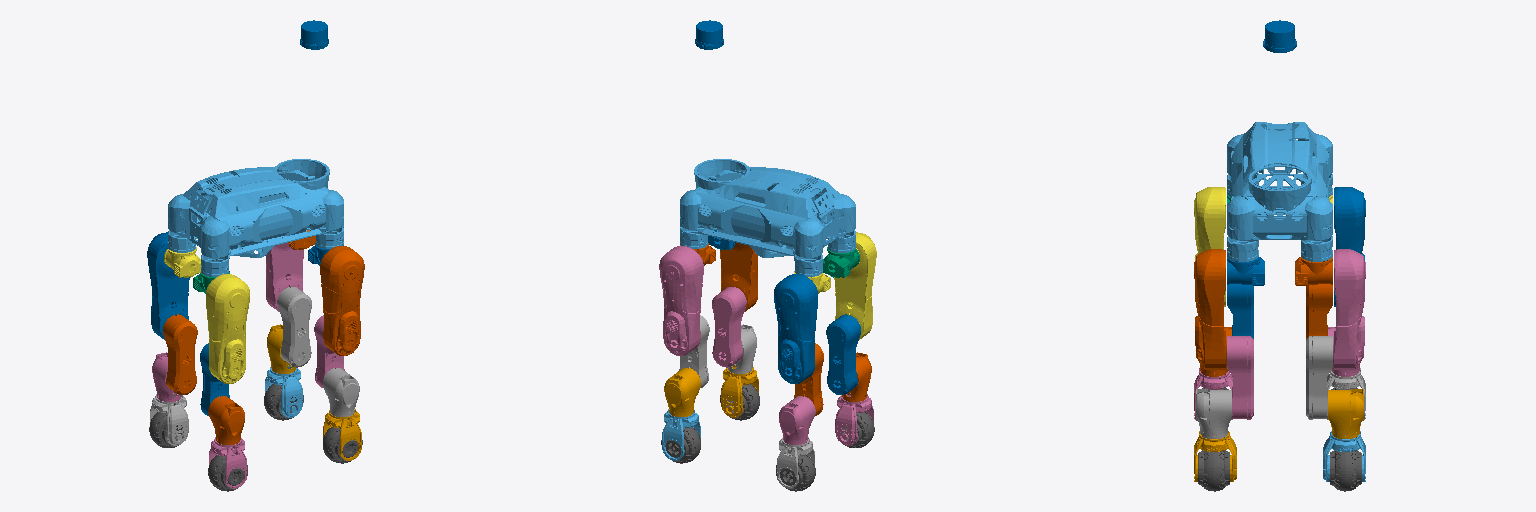
--- Facts derived from the render (not from the file) ---
The picture shows the robot from 3 angles, left to right: view 1: azimuth 30°, elevation 25°; view 2: azimuth 150°, elevation 25°; view 3: azimuth 270°, elevation 25°; orthographic projection.
Robot: centauro — 57 links, 56 joints (37 revolute, 5 continuous, 14 fixed); root link pelvis; default pose: joints at zero except 2 at the middle of their limits (j_arm1_2 = 1.73, j_arm2_2 = -1.72).
Links seen in each view (by area): view 1: pelvis, hip2_4, hip2_2, hip2_3, knee_3, knee_1, hip2_1, ankle1_2, ankle1_4, ankle2_3, ankle2_1, ankle2_2 (+11 smaller); view 2: pelvis, hip2_3, hip2_1, hip2_4, knee_4, knee_2, hip2_2, ankle1_1, ankle1_3, ankle2_4, ankle2_2, ankle2_1 (+11 smaller); view 3: pelvis, hip2_1, hip2_2, knee_1, knee_2, hip2_3, hip2_4, ankle1_1, ankle1_2, knee_3, knee_4, wheel_1 (+8 smaller).
Boxes of the visible links, x1,y1,x2,y2 form: pelvis: (168, 159, 343, 276); hip2_4: (206, 274, 249, 383); hip2_2: (320, 246, 364, 355); hip2_3: (147, 232, 189, 339); knee_3: (163, 314, 197, 394); knee_1: (277, 287, 311, 367); hip2_1: (266, 243, 303, 311); ankle1_2: (323, 368, 359, 416); ankle1_4: (208, 396, 244, 444); ankle2_3: (150, 393, 188, 445); ankle2_1: (265, 365, 302, 417); ankle2_2: (323, 409, 361, 460); pelvis: (680, 159, 855, 276); hip2_3: (774, 274, 817, 383); hip2_1: (659, 246, 703, 355); hip2_4: (834, 232, 876, 339); knee_4: (826, 314, 860, 394); knee_2: (712, 287, 746, 367); hip2_2: (720, 243, 757, 311); ankle1_1: (664, 368, 700, 416); ankle1_3: (779, 396, 815, 444); ankle2_4: (835, 393, 873, 445); ankle2_2: (721, 365, 758, 417); ankle2_1: (662, 409, 700, 460); pelvis: (1227, 122, 1332, 261); hip2_1: (1334, 249, 1365, 369); hip2_2: (1194, 249, 1225, 369); knee_1: (1306, 336, 1332, 419); knee_2: (1227, 336, 1253, 419); hip2_3: (1334, 187, 1365, 306); hip2_4: (1194, 187, 1225, 306); ankle1_1: (1328, 389, 1363, 438); ankle1_2: (1196, 389, 1231, 438); knee_3: (1306, 284, 1332, 338); knee_4: (1227, 284, 1253, 338); wheel_1: (1330, 450, 1361, 491).
Bounding box of the posed robot: 0.6554 × 0.5808 × 1.73 m (x, y, z).
Meshes: 19 distinct files referenced, 26 mesh visuals loaded (8 binary STL); not drawn: 19 (reference not matched to a file when rendering).

URDF robot description (centauro):
<?xml version="1.0" encoding="utf-8"?>
<!-- =================================================================================== -->
<!-- |    This document was autogenerated by xacro from [local-path]/code/robot_ws/src/iit-centauro-ros-pkg/centauro_urdf/urdf/centauro.urdf.xacro | -->
<!-- |    EDITING THIS FILE BY HAND IS NOT RECOMMENDED                                 | -->
<!-- =================================================================================== -->
<robot name="centauro">
  <!-- 
  ROS urdf definition of the CENTAURO humanoid robot by Istituto Italiano di Tecnologia
  
  Author: Enrico Mingo Hoffman
-->
  <!-- scaling facto for available peack torque link side, from 0 to 1 -->
  <material name="black">
    <color rgba="0.4 0.4 0.4 1"/>
  </material>
  <material name="dark">
    <color rgba="0.1 0.1 0.1 1"/>
  </material>
  <!-- TODO CHECK THIS VALUE -->
  <!-- ??? -->
  <!-- ??? -->
  <!-- Origin -->
  <!-- <xacro:property name="hip_yaw_lower" value="${[-2.827,-2.583, -2.583 ,-2.827]}"/>
<xacro:property name="hip_yaw_upper" value="${[ 2.583, 2.827,  2.827 , 2.583]}"/> -->
  <link name="base_link"/>
  <link name="pelvis">
    <inertial>
      <origin xyz="-0.0016320207 0.0026534004 0.079167428"/>
      <mass value="26.584529"/>
      <inertia ixx="0.39195477" ixy="0.024781259" ixz="0.017108607" iyy="1.0000709" iyz="0.0052627106" izz="1.0679989"/>
    </inertial>
    <visual>
      <origin rpy="0.0 0.0 0.0" xyz="0.0 0 0.0"/>
      <geometry>
        <mesh filename="package://centauro_urdf/meshes/v2/pelvis.stl" scale="0.001 0.001 0.001"/>
      </geometry>
    </visual>
    <collision>
      <origin rpy="0.0 0.0 0.0" xyz="0.0 0 0.0"/>
      <geometry>
        <mesh filename="package://centauro_urdf/meshes/simple/pelvis.stl" scale="0.001 0.001 0.001"/>
      </geometry>
    </collision>
  </link>
  <link name="imu_link"/>
  <joint name="imu_joint" type="fixed">
    <parent link="pelvis"/>
    <origin rpy="0.0 0.0 0.0" xyz="0.248316 0.0 0.015"/>
    <child link="imu_link"/>
  </joint>
  <joint name="base_joint" type="fixed">
    <parent link="pelvis"/>
    <child link="base_link"/>
    <origin rpy="0 0 0" xyz="0 0 0"/>
  </joint>
  <!-- torso links -->
  <link name="torso_2">
    <inertial>
      <origin xyz="-0.019497794 0.0045317835 0.13768283"/>
      <mass value="12.553731"/>
      <inertia ixx="0.063643392" ixy="8.939e-05" ixz="-0.00086873" iyy="0.02680235" iyz="-4.657e-05" izz="0.04743015"/>
    </inertial>
    <visual>
      <origin rpy="0.0 0.0 0.0" xyz="0.0 0 0.0"/>
      <geometry>
        <mesh filename="package://centauro_urdf/meshes/link1.stl" scale="0.001 0.001 0.001"/>
      </geometry>
    </visual>
    <collision>
      <origin rpy="0.0 0.0 0.0" xyz="0.0 0 0.0"/>
      <geometry>
        <mesh filename="package://centauro_urdf/meshes/simple/link1.stl" scale="0.001 0.001 0.001"/>
      </geometry>
    </collision>
  </link>
  <!-- /torso links -->
  <!-- torso joints -->
  <joint name="torso_yaw" type="revolute">
    <parent link="pelvis"/>
    <origin xyz="0.2 0.0 0.256"/>
    <child link="torso_2"/>
    <axis xyz="0 0 1"/>
    <limit effort="147" lower="-2.618" upper="2.618" velocity="5.7"/>
    <!-- TODO -->
  </joint>
  <!-- /torso joints -->
  <!-- /macro arms -->
  <!-- LINKS -->
  <!-- shoulder yaw-roll-->
  <link name="arm1_1">
    <inertial>
      <origin xyz="-0.0074457212 0.03410796 0.00010978102"/>
      <mass value="1.9628675"/>
      <inertia ixx="0.0053547717" ixy="0.00036428926" ixz="1.5089568e-05" iyy="0.0033923328" iyz="5.5692312e-05" izz="0.0068921413"/>
    </inertial>
    <visual>
      <origin rpy="0.0 0.0 0.0" xyz="0.0 0.0 0.0"/>
      <geometry>
        <mesh filename="package://centauro_urdf/meshes/ShoulderPitch.STL" scale="0.001 -0.001 0.001"/>
      </geometry>
      <material name="dark_grey"/>
    </visual>
    <collision>
      <origin rpy="0.0 0.0 0.0" xyz="0.0 0.0 0.0"/>
      <geometry>
        <mesh filename="package://centauro_urdf/meshes/simple/ShoulderPitch.STL" scale="0.001 -0.001 0.001"/>
      </geometry>
    </collision>
  </link>
  <!-- shoulder yaw-roll-->
  <!-- shoulder roll-pitch-->
  <link name="arm1_2">
    <inertial>
      <origin xyz="0.058142302 5.7450803e-05 -0.077477683"/>
      <mass value="1.8595811"/>
      <inertia ixx="0.013776643" ixy="3.7788675e-05" ixz="0.0037690171" iyy="0.015677464" iyz="-9.4893549e-06" izz="0.0046317657"/>
    </inertial>
    <visual>
      <origin rpy="0.0 0.0 0.0" xyz="0.0 0.0 0.0"/>
      <geometry>
        <mesh filename="package://centauro_urdf/meshes/ShoulderRoll.STL" scale="0.001 -0.001 0.001"/>
      </geometry>
    </visual>
    <collision>
      <origin rpy="0.0 0.0 0.0" xyz="0.0 0.0 0.0"/>
      <geometry>
        <mesh filename="package://centauro_urdf/meshes/simple/ShoulderRoll.STL" scale="0.001 -0.001 0.001"/>
      </geometry>
    </collision>
  </link>
  <!-- shoulder roll-pitch-->
  <!-- shoulder-elbow -->
  <link name="arm1_3">
    <inertial>
      <origin xyz="0.014625194 0.0008172672 -0.028333545"/>
      <mass value="1.6678109"/>
      <inertia ixx="0.0064480435" ixy="-0.00015639093" ixz="0.0012205359" iyy="0.0073372077" iyz="8.9941532e-05" izz="0.0036738448"/>
    </inertial>
    <visual>
      <origin rpy="0.0 0.0 0.0" xyz="0.0 0.0 0.0"/>
      <geometry>
        <mesh filename="package://centauro_urdf/meshes/ShoulderYaw.STL" scale="0.001 -0.001 0.001"/>
      </geometry>
      <material name="dark_grey"/>
    </visual>
    <collision>
      <origin rpy="0.0 0.0 0.0" xyz="0.0 0.0 0.0"/>
      <geometry>
        <mesh filename="package://centauro_urdf/meshes/simple/ShoulderYaw.STL" scale="0.001 -0.001 0.001"/>
      </geometry>
    </collision>
  </link>
  <!-- /shoulder-elbow -->
  <!-- elbow yaw-pitch -->
  <link name="arm1_4">
    <inertial>
      <origin xyz="-0.0076833067 -0.040302205 -0.043492779"/>
      <mass value="1.3157289"/>
      <inertia ixx="0.004330394" ixy="-0.00011737391" ixz="-0.00041923199" iyy="0.0038539919" iyz="-0.00079573038" izz="0.0017594689"/>
    </inertial>
    <visual>
      <origin rpy="0.0 0.0 0.0" xyz="0.0 0.0 0.0"/>
      <geometry>
        <mesh filename="package://centauro_urdf/meshes/Elbow.STL" scale="0.001 -0.001 0.001"/>
      </geometry>
    </visual>
    <collision>
      <origin rpy="0.0 0.0 0.0" xyz="0.0 0.0 0.0"/>
      <geometry>
        <mesh filename="package://centauro_urdf/meshes/simple/Elbow.STL" scale="0.001 -0.001 0.001"/>
      </geometry>
    </collision>
  </link>
  <!-- /elbow yaw-pitch -->
  <!-- elbow-wrist -->
  <link name="arm1_5">
    <inertial>
      <origin xyz="-0.00011079615 0.011590836 -0.07816026"/>
      <mass value="1.4908547"/>
      <inertia ixx="0.0085692128" ixy="1.7856252e-05" ixz="1.9379365e-05" iyy="0.0077454159" iyz="-0.00032860094" izz="0.0027441921"/>
    </inertial>
    <visual>
      <origin rpy="0.0 0.0 0.0" xyz="0.0 0.0 0.0"/>
      <geometry>
        <mesh filename="package://centauro_urdf/meshes/Forearm.STL" scale="0.001 -0.001 0.001"/>
      </geometry>
      <material name="dark_grey"/>
    </visual>
    <collision>
      <origin rpy="0.0 0.0 0.0" xyz="0.0 0.0 0.0"/>
      <geometry>
        <mesh filename="package://centauro_urdf/meshes/simple/Forearm.STL" scale="0.001 -0.001 0.001"/>
      </geometry>
    </collision>
  </link>
  <!-- /elbow-wrist -->
  <!-- wrist yaw-pitch -->
  <link name="arm1_6">
    <inertial>
      <origin xyz="-4.6502396e-06 -0.038014094 -0.069926878"/>
      <mass value="1.1263612"/>
      <inertia ixx="0.0051871784" ixy="2.724437e-05" ixz="2.2833496e-06" iyy="0.0048037789" iyz="-0.00072165653" izz="0.0012771388"/>
    </inertial>
    <visual>
      <origin rpy="0.0 0.0 0.0" xyz="0.0 0.0 0.0"/>
      <geometry>
        <mesh filename="package://centauro_urdf/meshes/ForearmPitch.STL" scale="0.001 -0.001 0.001"/>
      </geometry>
    </visual>
    <collision>
      <origin rpy="0.0 0.0 0.0" xyz="0.0 0.0 0.0"/>
      <geometry>
        <mesh filename="package://centauro_urdf/meshes/simple/ForearmPitch.STL" scale="0.001 -0.001 0.001"/>
      </geometry>
    </collision>
  </link>
  <!-- /wrist yaw-pitch -->
  <link name="arm1_7">
    <inertial>
      <origin xyz="0.0 0.0 0.03127057"/>
      <mass value="0.27966428"/>
      <inertia ixx="0.00014415192" ixy="9.8651826e-08" ixz="0" iyy="0.0001441701" iyz="0" izz="6.0500616e-05"/>
    </inertial>
    <visual>
      <origin rpy="0.0 0.0 0.0" xyz="0.0 0.0 0.0"/>
      <geometry>
        <mesh filename="package://centauro_urdf/meshes/ForearmYaw.STL" scale="0.001 -0.001 0.001"/>
      </geometry>
      <material name="dark_grey"/>
    </visual>
    <collision>
      <origin rpy="0.0 0.0 0.0" xyz="0.0 0.0 0.0"/>
      <geometry>
        <mesh filename="package://centauro_urdf/meshes/simple/ForearmYaw.STL" scale="0.001 -0.001 0.001"/>
      </geometry>
    </collision>
  </link>
  <!-- /LINKS -->
  <!-- JOINTS -->
  <!-- shoulder yaw -->
  <joint name="j_arm1_1" type="revolute">
    <parent link="torso_2"/>
    <child link="arm1_1"/>
    <origin rpy="0.174533 0.0 -0.5235988" xyz="0.0457475 0.169137 0.116626"/>
    <axis xyz="0 1 0"/>
    <limit effort="147.0" lower="-3.312" upper="1.615" velocity="3.86"/>
  </joint>
  <!-- /shoulder yaw -->
  <!-- shoulder roll -->
  <joint name="j_arm1_2" type="revolute">
    <parent link="arm1_1"/>
    <child link="arm1_2"/>
    <origin rpy="-0.1745327 0.0 0.0" xyz="-0.09015 0.062 0.0"/>
    <axis xyz="1 0 0"/>
    <limit effort="147.0" lower="0.02" upper="3.431" velocity="3.86"/>
  </joint>
  <!-- /shoulder roll -->
  <!-- shoulder pitch-->
  <joint name="j_arm1_3" type="revolute">
    <parent link="arm1_2"/>
    <child link="arm1_3"/>
    <origin xyz="0.09015 0.0 -0.21815"/>
    <axis xyz="0 0 1"/>
    <limit effort="147.0" lower="-2.552" upper="2.566" velocity="6.06"/>
  </joint>
  <!-- /shoulder pitch -->
  <!-- elbow yaw -->
  <joint name="j_arm1_4" type="revolute">
    <parent link="arm1_3"/>
    <child link="arm1_4"/>
    <origin xyz="0.045 0.05515 -0.074"/>
    <axis xyz="0 1 0"/>
    <limit effort="147.0" lower="-2.465" upper="0.28" velocity="6.06"/>
  </joint>
  <!-- /elbow yaw -->
  <!-- elbow pitch-->
  <joint name="j_arm1_5" type="revolute">
    <parent link="arm1_4"/>
    <child link="arm1_5"/>
    <origin xyz="-0.015 -0.05515 -0.095"/>
    <axis xyz="0 0 1"/>
    <limit effort="55.0" lower="-2.569" upper="2.562" velocity="11.72"/>
  </joint>
  <!-- /elbow pitch-->
  <!-- wrist yaw-->
  <joint name="j_arm1_6" type="revolute">
    <parent link="arm1_5"/>
    <child link="arm1_6"/>
    <origin xyz="0.0 0.049 -0.156"/>
    <axis xyz="0 1 0"/>
    <limit effort="55.0" lower="-1.529" upper="1.509" velocity="11.72"/>
  </joint>
  <!-- /wrist yaw-->
  <!-- wrist pitch-->
  <joint name="j_arm1_7" type="revolute">
    <parent link="arm1_6"/>
    <child link="arm1_7"/>
    <origin xyz="0.0 -0.049 -0.174"/>
    <axis xyz="0 0 1"/>
    <limit effort="28.32" lower="-2.565" upper="2.569" velocity="20.35"/>
  </joint>
  <!-- wrist pitch-->
  <!-- force-troque sensor -->
  <!-- end-effector -->
  <!-- wrist pitch-->
  <joint name="j_ft_1" type="fixed">
    <parent link="arm1_7"/>
    <child link="ft_arm1"/>
    <origin rpy="0.0 0.0 0.0" xyz="0.0 0.0 -0.0"/>
    <axis xyz="0 0 1"/>
    <limit effort="0" lower="0.0" upper="0.0" velocity="0"/>
  </joint>
  <!-- wrist pitch-->
  <link name="ft_arm1">
    <inertial>
      <origin xyz="8.2161929e-05 0.0026334189 -0.016465877"/>
      <mass value="0.37827821"/>
      <inertia ixx="0.00023321716" ixy="2.3681435e-06" ixz="-1.8039102e-06" iyy="0.00020626291" iyz="3.158829e-05" izz="0.00027399881"/>
    </inertial>
    <!--visual>
         <origin xyz="0.0 0.0 0.0"  rpy="${PI} 0.0 0.0"/>
   <geometry>
      <mesh filename="package://centauro_urdf/meshes/Wrist.STL" scale="0.001 ${-rot*0.001} 0.001" />
   </geometry>
      </visual-->
    <!--collision>
         <origin xyz="0.0 0.0 0.0"  rpy="${PI} 0.0 0.0"/>
   <geometry>
      <mesh filename="package://centauro_urdf/meshes/simple/Wrist.STL" scale="0.001 ${-rot*0.001} 0.001" />
   </geometry>
      </collision-->
  </link>
  <!-- LINKS -->
  <!-- shoulder yaw-roll-->
  <link name="arm2_1">
    <inertial>
      <origin xyz="-0.0074457212 -0.03410796 0.00010978102"/>
      <mass value="1.9628675"/>
      <inertia ixx="0.0053547717" ixy="-0.00036428926" ixz="1.5089568e-05" iyy="0.0033923328" iyz="-5.5692312e-05" izz="0.0068921413"/>
    </inertial>
    <visual>
      <origin rpy="0.0 0.0 0.0" xyz="0.0 0.0 0.0"/>
      <geometry>
        <mesh filename="package://centauro_urdf/meshes/ShoulderPitch.STL" scale="0.001 0.001 0.001"/>
      </geometry>
      <material name="dark_grey"/>
    </visual>
    <collision>
      <origin rpy="0.0 0.0 0.0" xyz="0.0 0.0 0.0"/>
      <geometry>
        <mesh filename="package://centauro_urdf/meshes/simple/ShoulderPitch.STL" scale="0.001 0.001 0.001"/>
      </geometry>
    </collision>
  </link>
  <!-- shoulder yaw-roll-->
  <!-- shoulder roll-pitch-->
  <link name="arm2_2">
    <inertial>
      <origin xyz="0.058142302 -5.7450803e-05 -0.077477683"/>
      <mass value="1.8595811"/>
      <inertia ixx="0.013776643" ixy="-3.7788675e-05" ixz="0.0037690171" iyy="0.015677464" iyz="9.4893549e-06" izz="0.0046317657"/>
    </inertial>
    <visual>
      <origin rpy="0.0 0.0 0.0" xyz="0.0 0.0 0.0"/>
      <geometry>
        <mesh filename="package://centauro_urdf/meshes/ShoulderRoll.STL" scale="0.001 0.001 0.001"/>
      </geometry>
    </visual>
    <collision>
      <origin rpy="0.0 0.0 0.0" xyz="0.0 0.0 0.0"/>
      <geometry>
        <mesh filename="package://centauro_urdf/meshes/simple/ShoulderRoll.STL" scale="0.001 0.001 0.001"/>
      </geometry>
    </collision>
  </link>
  <!-- shoulder roll-pitch-->
  <!-- shoulder-elbow -->
  <link name="arm2_3">
    <inertial>
      <origin xyz="0.014625194 -0.0008172672 -0.028333545"/>
      <mass value="1.6678109"/>
      <inertia ixx="0.0064480435" ixy="0.00015639093" ixz="0.0012205359" iyy="0.0073372077" iyz="-8.9941532e-05" izz="0.0036738448"/>
    </inertial>
    <visual>
      <origin rpy="0.0 0.0 0.0" xyz="0.0 0.0 0.0"/>
      <geometry>
        <mesh filename="package://centauro_urdf/meshes/ShoulderYaw.STL" scale="0.001 0.001 0.001"/>
      </geometry>
      <material name="dark_grey"/>
    </visual>
    <collision>
      <origin rpy="0.0 0.0 0.0" xyz="0.0 0.0 0.0"/>
      <geometry>
        <mesh filename="package://centauro_urdf/meshes/simple/ShoulderYaw.STL" scale="0.001 0.001 0.001"/>
      </geometry>
    </collision>
  </link>
  <!-- /shoulder-elbow -->
  <!-- elbow yaw-pitch -->
  <link name="arm2_4">
    <inertial>
      <origin xyz="-0.0076833067 0.040302205 -0.043492779"/>
      <mass value="1.3157289"/>
      <inertia ixx="0.004330394" ixy="0.00011737391" ixz="-0.00041923199" iyy="0.0038539919" iyz="0.00079573038" izz="0.0017594689"/>
    </inertial>
    <visual>
      <origin rpy="0.0 0.0 0.0" xyz="0.0 0.0 0.0"/>
      <geometry>
        <mesh filename="package://centauro_urdf/meshes/Elbow.STL" scale="0.001 0.001 0.001"/>
      </geometry>
    </visual>
    <collision>
      <origin rpy="0.0 0.0 0.0" xyz="0.0 0.0 0.0"/>
      <geometry>
        <mesh filename="package://centauro_urdf/meshes/simple/Elbow.STL" scale="0.001 0.001 0.001"/>
      </geometry>
    </collision>
  </link>
  <!-- /elbow yaw-pitch -->
  <!-- elbow-wrist -->
  <link name="arm2_5">
    <inertial>
      <origin xyz="-0.00011079615 -0.011590836 -0.07816026"/>
      <mass value="1.4908547"/>
      <inertia ixx="0.0085692128" ixy="-1.7856252e-05" ixz="1.9379365e-05" iyy="0.0077454159" iyz="0.00032860094" izz="0.0027441921"/>
    </inertial>
    <visual>
      <origin rpy="0.0 0.0 0.0" xyz="0.0 0.0 0.0"/>
      <geometry>
        <mesh filename="package://centauro_urdf/meshes/Forearm.STL" scale="0.001 0.001 0.001"/>
      </geometry>
      <material name="dark_grey"/>
    </visual>
    <collision>
      <origin rpy="0.0 0.0 0.0" xyz="0.0 0.0 0.0"/>
      <geometry>
        <mesh filename="package://centauro_urdf/meshes/simple/Forearm.STL" scale="0.001 0.001 0.001"/>
      </geometry>
    </collision>
  </link>
  <!-- /elbow-wrist -->
  <!-- wrist yaw-pitch -->
  <link name="arm2_6">
    <inertial>
      <origin xyz="-4.6502396e-06 0.038014094 -0.069926878"/>
      <mass value="1.1263612"/>
      <inertia ixx="0.0051871784" ixy="-2.724437e-05" ixz="2.2833496e-06" iyy="0.0048037789" iyz="0.00072165653" izz="0.0012771388"/>
    </inertial>
    <visual>
      <origin rpy="0.0 0.0 0.0" xyz="0.0 0.0 0.0"/>
      <geometry>
        <mesh filename="package://centauro_urdf/meshes/ForearmPitch.STL" scale="0.001 0.001 0.001"/>
      </geometry>
    </visual>
    <collision>
      <origin rpy="0.0 0.0 0.0" xyz="0.0 0.0 0.0"/>
      <geometry>
        <mesh filename="package://centauro_urdf/meshes/simple/ForearmPitch.STL" scale="0.001 0.001 0.001"/>
      </geometry>
    </collision>
  </link>
  <!-- /wrist yaw-pitch -->
  <link name="arm2_7">
    <inertial>
      <origin xyz="0.0 -0.0 0.03127057"/>
      <mass value="0.27966428"/>
      <inertia ixx="0.00014415192" ixy="-9.8651826e-08" ixz="0" iyy="0.0001441701" iyz="0" izz="6.0500616e-05"/>
    </inertial>
    <visual>
      <origin rpy="0.0 0.0 0.0" xyz="0.0 0.0 0.0"/>
      <geometry>
        <mesh filename="package://centauro_urdf/meshes/ForearmYaw.STL" scale="0.001 0.001 0.001"/>
      </geometry>
      <material name="dark_grey"/>
    </visual>
    <collision>
      <origin rpy="0.0 0.0 0.0" xyz="0.0 0.0 0.0"/>
      <geometry>
        <mesh filename="package://centauro_urdf/meshes/simple/ForearmYaw.STL" scale="0.001 0.001 0.001"/>
      </geometry>
    </collision>
  </link>
  <!-- /LINKS -->
  <!-- JOINTS -->
  <!-- shoulder yaw -->
  <joint name="j_arm2_1" type="revolute">
    <parent link="torso_2"/>
    <child link="arm2_1"/>
    <origin rpy="-0.174533 0.0 0.5235988" xyz="0.0457475 -0.169137 0.116626"/>
    <axis xyz="0 1 0"/>
    <limit effort="147.0" lower="-3.3458" upper="1.6012" velocity="3.86"/>
  </joint>
  <!-- /shoulder yaw -->
  <!-- shoulder roll -->
  <joint name="j_arm2_2" type="revolute">
    <parent link="arm2_1"/>
    <child link="arm2_2"/>
    <origin rpy="0.1745327 0.0 0.0" xyz="-0.09015 -0.062 0.0"/>
    <axis xyz="1 0 0"/>
    <limit effort="147.0" lower="-3.4258" upper="-0.0138" velocity="3.86"/>
  </joint>
  <!-- /shoulder roll -->
  <!-- shoulder pitch-->
  <joint name="j_arm2_3" type="revolute">
    <parent link="arm2_2"/>
    <child link="arm2_3"/>
    <origin xyz="0.09015 0.0 -0.21815"/>
    <axis xyz="0 0 1"/>
    <limit effort="147.0" lower="-2.5614" upper="2.5606" velocity="6.06"/>
  </joint>
  <!-- /shoulder pitch -->
  <!-- elbow yaw -->
  <joint name="j_arm2_4" type="revolute">
    <parent link="arm2_3"/>
    <child link="arm2_4"/>
    <origin xyz="0.045 -0.05515 -0.074"/>
    <axis xyz="0 1 0"/>
    <limit effort="147.0" lower="-2.4794" upper="0.2886" velocity="6.06"/>
  </joint>
  <!-- /elbow yaw -->
  <!-- elbow pitch-->
  <joint name="j_arm2_5" type="revolute">
    <parent link="arm2_4"/>
    <child link="arm2_5"/>
    <origin xyz="-0.015 0.05515 -0.095"/>
    <axis xyz="0 0 1"/>
    <limit effort="55.0" lower="-2.5394" upper="2.5546" velocity="11.72"/>
  </joint>
  <!-- /elbow pitch-->
  <!-- wrist yaw-->
  <joint name="j_arm2_6" type="revolute">
    <parent link="arm2_5"/>
    <child link="arm2_6"/>
    <origin xyz="0.0 -0.049 -0.156"/>
    <axis xyz="0 1 0"/>
    <limit effort="55.0" lower="-1.5154" upper="1.5156" velocity="11.72"/>
  </joint>
  <!-- /wrist yaw-->
  <!-- wrist pitch-->
  <joint name="j_arm2_7" type="revolute">
    <parent link="arm2_6"/>
    <child link="arm2_7"/>
    <origin xyz="0.0 0.049 -0.174"/>
    <axis xyz="0 0 1"/>
    <limit effort="28.32" lower="-2.5554" upper="2.5686" velocity="20.35"/>
  </joint>
  <!-- wrist pitch-->
  <!-- force-troque sensor -->
  <!-- end-effector -->
  <!-- wrist pitch-->
  <joint name="j_ft_2" type="fixed">
    <parent link="arm2_7"/>
    <child link="ft_arm2"/>
    <origin rpy="0.0 0.0 0.0" xyz="0.0 0.0 -0.0"/>
    <axis xyz="0 0 1"/>
    <limit effort="0" lower="0.0" upper="0.0" velocity="0"/>
  </joint>
  <!-- wrist pitch-->
  <link name="ft_arm2">
    <inertial>
      <origin xyz="8.2161929e-05 -0.0026334189 -0.016465877"/>
      <mass value="0.37827821"/>
      <inertia ixx="0.00023321716" ixy="-2.3681435e-06" ixz="-1.8039102e-06" iyy="0.00020626291" iyz="-3.158829e-05" izz="0.00027399881"/>
    </inertial>
    <!--visual>
         <origin xyz="0.0 0.0 0.0"  rpy="${PI} 0.0 0.0"/>
   <geometry>
      <mesh filename="package://centauro_urdf/meshes/Wrist.STL" scale="0.001 ${-rot*0.001} 0.001" />
   </geometry>
      </visual-->
    <!--collision>
         <origin xyz="0.0 0.0 0.0"  rpy="${PI} 0.0 0.0"/>
   <geometry>
      <mesh filename="package://centauro_urdf/meshes/simple/Wrist.STL" scale="0.001 ${-rot*0.001} 0.001" />
   </geometry>
      </collision-->
  </link>
  <link name="ball1">
    <inertial>
      <origin rpy="0 0 0" xyz="-1.0072498e-05 3.7590658e-05 0.019772332"/>
      <mass value="1.27"/>
      <inertia ixx="0.0023061092" ixy="2.9181758e-07" ixz="-2.1246684e-07" iyy="0.0023053155" iyz="7.9290978e-07" izz="0.0030675616"/>
    </inertial>
    <visual>
      <origin rpy="0.0 0.0 0.0" xyz="0.0 0.0 0.0"/>
      <geometry name="ball1_visual">
        <mesh filename="package://centauro_urdf/meshes/BallHand.stl" scale="0.001 0.001 0.001"/>
      </geometry>
      <material name="grey"/>
    </visual>
    <collision>
      <origin rpy="0.0 0.0 0.0" xyz="0.0 0.0 0.0"/>
      <geometry name="ball1_collision">
        <mesh filename="package://centauro_urdf/meshes/simple/BallHand.stl" scale="0.001 0.001 0.001"/>
      </geometry>
    </collision>
  </link>
  <link name="ball1_tip"/>
  <joint name="j_arm1_8" type="fixed">
    <parent link="arm1_7"/>
    <child link="ball1"/>
    <origin rpy="0. 0. 0." xyz="0. 0. 0."/>
  </joint>
  <joint name="j_ball1_tip" type="fixed">
    <parent link="ball1"/>
    <child link="ball1_tip"/>
    <origin rpy="0 0 0" xyz="0 0 -0.07"/>
  </joint>
  <!-- add armX_8 link for legacy reasons (same as ballX) -->
  <joint name="j_ball1_fixed" type="fixed">
    <parent link="ball1"/>
    <child link="arm1_8"/>
  </joint>
  <link name="arm1_8">
    <inertial>
      <mass value="0"/>
      <inertia ixx="0" ixy="0" ixz="0" iyy="0" iyz="0" izz="0"/>
    </inertial>
  </link>
  <link name="ball2">
    <inertial>
      <origin rpy="0 0 0" xyz="-1.0072498e-05 3.7590658e-05 0.019772332"/>
      <mass value="1.27"/>
      <inertia ixx="0.0023061092" ixy="2.9181758e-07" ixz="-2.1246684e-07" iyy="0.0023053155" iyz="7.9290978e-07" izz="0.0030675616"/>
    </inertial>
    <visual>
      <origin rpy="0.0 0.0 0.0" xyz="0.0 0.0 0.0"/>
      <geometry name="ball2_visual">
        <mesh filename="package://centauro_urdf/meshes/BallHand.stl" scale="0.001 0.001 0.001"/>
      </geometry>
      <material name="grey"/>
    </visual>
    <collision>
      <origin rpy="0.0 0.0 0.0" xyz="0.0 0.0 0.0"/>
      <geometry name="ball2_collision">
        <mesh filename="package://centauro_urdf/meshes/simple/BallHand.stl" scale="0.001 0.001 0.001"/>
      </geometry>
    </collision>
  </link>
  <link name="ball2_tip"/>
  <joint name="j_arm2_8" type="fixed">
    <parent link="arm2_7"/>
    <child link="ball2"/>
    <origin rpy="0. 0. 0." xyz="0. 0. 0."/>
  </joint>
  <joint name="j_ball2_tip" type="fixed">
    <parent link="ball2"/>
    <child link="ball2_tip"/>
    <origin rpy="0 0 0" xyz="0 0 -0.07"/>
  </joint>
  <!-- add armX_8 link for legacy reasons (same as ballX) -->
  <joint name="j_ball2_fixed" type="fixed">
    <parent link="ball2"/>
    <child link="arm2_8"/>
  </joint>
  <link name="arm2_8">
    <inertial>
      <mass value="0"/>
      <inertia ixx="0" ixy="0" ixz="0" iyy="0" iyz="0" izz="0"/>
    </inertial>
  </link>
  <!-- LINKS -->
  <!-- TODO: FINISH IMPLEMENTATION WITH CORRECT NUMBERS -->
  <link name="neck_1">
    <inertial>
      <origin xyz="0.040479674 0.021377573 -0.014595112"/>
      <mass value="0.33878686"/>
      <inertia ixx="0.0003718568" ixy="-9.42983e-05" ixz="-2.80644e-05" iyy="0.0001886879" iyz="-1.54534e-05" izz="0.0005023443"/>
    </inertial>
    <visual>
      <origin rpy="0.0 0.0 0.0" xyz="0.0 0 0.0"/>
      <geometry>
        <mesh filename="package://centauro_urdf/meshes/neck_yaw.stl" scale="0.001 0.001 0.001"/>
      </geometry>
    </visual>
    <collision>
      <origin rpy="0.0 0.0 0.0" xyz="0.0 0 0.0"/>
      <geometry>
        <mesh filename="package://centauro_urdf/meshes/simple/neck_yaw.stl" scale="0.001 0.001 0.001"/>
      </geometry>
    </collision>
  </link>
  <link name="neck_2">
    <inertial>
      <origin xyz="0.048466918 -0.059852318 -0.0085314894"/>
      <mass value="0.78526942"/>
      <inertia ixx="0.0004682345" ixy="-1.05438e-05" ixz="7.24398e-05" iyy="0.0002635246" iyz="1.6904e-06" izz="0.0003763351"/>
    </inertial>
    <visual>
      <origin rpy="0.0 0.0 0.0" xyz="0.0 0 0.0"/>
      <geometry>
        <mesh filename="package://centauro_urdf/meshes/neck_pitch.stl" scale="0.001 0.001 0.001"/>
      </geometry>
    </visual>
    <collision>
      <origin rpy="0.0 0.0 0.0" xyz="0.0 0 0.0"/>
      <geometry>
        <mesh filename="package://centauro_urdf/meshes/simple/neck_pitch.stl" scale="0.001 0.001 0.001"/>
      </geometry>
    </collision>
  </link>
  <!-- LINKS -->
  <link name="neck_3">
    <inertial>
      <origin xyz="0.048466918 -0.059852318 -0.0085314894"/>
      <mass value="0.78526942"/>
      <inertia ixx="0.0004682345" ixy="-1.05438e-05" ixz="7.24398e-05" iyy="0.0002635246" iyz="1.6904e-06" izz="0.0003763351"/>
    </inertial>
    <visual>
      <origin rpy="0.0 0.0 0.0" xyz="0.0 0 0.0"/>
      <geometry>
        <mesh filename="package://centauro_urdf/meshes/lidar.stl" scale="0.001 0.001 0.001"/>
      </geometry>
    </visual>
    <collision>
      <origin rpy="0.0 0.0 0.0" xyz="0.0 0 0.0"/>
      <geometry>
        <mesh filename="package://centauro_urdf/meshes/simple/lidar.stl" scale="0.001 0.001 0.001"/>
      </geometry>
    </collision>
  </link>
  <!--JOINTS -->
  <joint name="neck_yaw" type="revolute">
    <parent link="torso_2"/>
    <origin xyz="0.0 0.0 0.2795"/>
    <child link="neck_1"/>
    <axis xyz="0 0 1"/>
    <limit effort="35" lower="-0.78539816" upper="0.78539816" velocity="5.7"/>
    <dynamics friction="10.0"/>
  </joint>
  <joint name="neck_pitch" type="revolute">
    <parent link="neck_1"/>
    <origin xyz="0.054 0.0596 -0.0124975"/>
    <child link="neck_2"/>
    <axis xyz="0 1 0"/>
    <limit effort="35" lower="-0.34906585" upper="0.78539816" velocity="5.7"/>
    <dynamics friction="10.0"/>
  </joint>
  <joint name="neck_velodyne" type="continuous">
    <parent link="torso_2"/>
    <origin rpy="0 0 0" xyz="0.055 0.0 0.473262"/>
    <child link="neck_3"/>
    <axis xyz="0 0 1"/>
    <limit effort="35" velocity="5.7"/>
    <dynamics damping="0.2" friction="10.0"/>
  </joint>
  <!-- /macro legs -->
  <link name="hip1_1">
    <inertial>
      <origin xyz="0.0003595855 0.033338818 -0.059190309"/>
      <mass value="2.3349153"/>
      <!-- org: 2 -->
      <inertia ixx="0.0068405374" ixy="1.8572633e-05" ixz="-4.8325972e-05" iyy="0.0026261815" iyz="0.0001564273" izz="0.0066933354"/>
    </inertial>
    <visual>
      <origin rpy="0.0 0.0 0.0" xyz="0.0 0.0 0.0"/>
      <geometry>
        <mesh filename="package://centauro_urdf/meshes/v2/hip-yaw.stl" scale="0.001 -0.001 0.001"/>
      </geometry>
      <material name="dark_grey"/>
    </visual>
    <collision>
      <origin rpy="0.0 0.0 0.0" xyz="0.0 0.0 0.0"/>
      <geometry>
        <mesh filename="package://centauro_urdf/meshes/v2/collision/hip-yaw.stl" scale="0.001 -0.001 0.001"/>
      </geometry>
    </collision>
  </link>
  <link name="hip2_1">
    <inertial>
      <origin xyz="-4.6285952e-06 -0.2214019 0.03316685"/>
      <mass value="3.4572118"/>
      <!-- org: 4.5 -->
      <inertia ixx="0.050469853" ixy="-7.7849387e-06" ixz="-9.220581e-06" iyy="0.008181597" iyz="0.0059796848" izz="0.048213809"/>
    </inertial>
    <visual>
      <origin rpy="0.0 0.0 0.0" xyz="0.0 0.0 0.0"/>
      <geometry>
        <mesh filename="package://centauro_urdf/meshes/v2/hip-pitch.stl" scale="0.001 0.001 -0.001"/>
      </geometry>
    </visual>
    <collision>
      <origin rpy="0.0 0.0 0.0" xyz="0.0 0.0 0.0"/>
      <geometry>
        <mesh filename="package://centauro_urdf/meshes/v2/collision/hip-pitch.stl" scale="0.001 0.001 -0.001"/>
      </geometry>
    </collision>
  </link>
  <link name="knee_1">
    <inertial>
      <origin xyz="0.00012063381 0.14620674 0.029740711"/>
      <mass value="2.1199315"/>
      <!-- org: 3.5, foot un modeled-->
      <inertia ixx="0.018426403" ixy="2.8226636e-05" ixz="-2.9204348e-05" iyy="0.0047685615" iyz="-0.002640771" izz="0.017793722"/>
    </inertial>
    <visual>
      <origin rpy="0.0 0.0 0.0" xyz="0.0 0.0 0.0"/>
      <geometry>
        <mesh filename="package://centauro_urdf/meshes/v2/knee.stl" scale="0.001 0.001 -0.001"/>
      </geometry>
      <material name="dark_grey"/>
    </visual>
    <collision>
      <origin rpy="0.0 0.0 0.0" xyz="0.0 0.0 0.0"/>
      <geometry>
        <mesh filename="package://centauro_urdf/meshes/v2/collision/knee.stl" scale="0.001 0.001 -0.001"/>
      </geometry>
    </collision>
  </link>
  <link name="ankle1_1">
    <inertial>
      <origin xyz="0.00012360094 -0.06274712 -0.0049068453"/>
      <mass value="1.4023368"/>
      <!-- org: 3.5, foot un modeled-->
      <inertia ixx="0.0049928829" ixy="5.7623557e-06" ixz="1.9606394e-05" iyy="0.0017621464" iyz="0.00045315091" izz="0.0048706328"/>
    </inertial>
    <visual>
      <origin rpy="0.0 0.0 0.0" xyz="0.0 0.0 0.0"/>
      <geometry>
        <mesh filename="package://centauro_urdf/meshes/v2/ankle-pitch.stl" scale="0.001 0.001 -0.001"/>
      </geometry>
    </visual>
    <collision>
      <origin rpy="0.0 0.0 0.0" xyz="0.0 0.0 0.0"/>
      <geometry>
        <mesh filename="package://centauro_urdf/meshes/v2/collision/ankle-pitch.stl" scale="0.001 0.001 -0.001"/>
      </geometry>
    </collision>
  </link>
  <link name="ankle2_1">
    <inertial>
      <origin xyz="0.0018496706 -0.00051322371 -0.06730924"/>
      <mass value="1.7656714"/>
      <!-- org: 3.5, foot un modeled-->
      <inertia ixx="0.0073976286" ixy="9.7557687e-07" ixz="-0.0002295255" iyy="0.0054434358" iyz="3.6337754e-05" izz="0.0043055053"/>
    </inertial>
    <visual>
      <origin rpy="0.0 0.0 0.0" xyz="0.0 0.0 0.0"/>
      <geometry>
        <mesh filename="package://centauro_urdf/meshes/v2/ankle-yaw.stl" scale="0.001 -0.001 0.001"/>
      </geometry>
      <material name="dark_grey"/>
    </visual>
    <collision>
      <origin rpy="0.0 0.0 0.0" xyz="0.0 0.0 0.0"/>
      <geometry>
        <mesh filename="package://centauro_urdf/meshes/v2/collision/ankle-yaw.stl" scale="0.001 -0.001 0.001"/>
      </geometry>
    </collision>
  </link>
  <link name="wheel_1">
    <inertial>
      <origin xyz="0.0 0.0 -0.0031155904"/>
      <mass value="1.11164"/>
      <inertia ixx="0.0028174054" ixy="0.0" ixz="-0.0" iyy="0.0028175648" iyz="-0.0" izz="0.0041817162"/>
    </inertial>
    <visual>
      <origin rpy="0.0 0.0 0.0" xyz="0.0 0.0 0.0"/>
      <geometry>
        <mesh filename="package://centauro_urdf/meshes/v2/wheel.stl" scale="0.001 0.001 -0.001"/>
      </geometry>
      <material name="black"/>
    </visual>
    <collision>
      <origin rpy="0 0 0" xyz="0 0 0"/>
      <geometry>
        <cylinder length="0.11" radius="0.078"/>
      </geometry>
    </collision>
  </link>
  <!-- *****************************-->
  <link name="contact_1"/>
  <joint name="contact_joint_1" type="fixed">
    <parent link="ankle2_1"/>
    <child link="contact_1"/>
    <origin rpy="0 0 0" xyz="0 0 -0.176"/>
  </joint>
  <!-- ******************************** -->
  <joint name="hip_yaw_1" type="revolute">
    <parent link="pelvis"/>
    <child link="hip1_1"/>
    <origin rpy="0.0 0.0 0.0" xyz="0.25 0.125 -0.0566"/>
    <axis xyz="0 0 -1"/>
    <limit effort="304" lower="-2.03" upper="2.51" velocity="8.8"/>
    <!-- 200 Nm, 1 rad/s-->
  </joint>
  <joint name="hip_pitch_1" type="revolute">
    <parent link="hip1_1"/>
    <child link="hip2_1"/>
    <origin rpy="1.57079632679 0.0 0.0" xyz="0.0 0.1146 -0.0625"/>
    <axis xyz="0 0 -1"/>
    <limit effort="304" lower="-2.0226" upper="2.02748" velocity="8.8"/>
    <!-- 200 Nm, 1 rad/s-->
  </joint>
  <joint name="knee_pitch_1" type="revolute">
    <parent link="hip2_1"/>
    <child link="knee_1"/>
    <origin rpy="3.14159265359 0.0 0.0" xyz="0.0 -0.3 0.1182"/>
    <axis xyz="0 0 -1"/>
    <limit effort="304" lower="-2.4056" upper="2.3994" velocity="8.8"/>
    <!-- 200 Nm, 1 rad/s-->
  </joint>
  <joint name="ankle_pitch_1" type="revolute">
    <parent link="knee_1"/>
    <child link="ankle1_1"/>
    <origin rpy="3.14159265359 0.0 0.0" xyz="0.0 0.2 0.10015"/>
    <axis xyz="0 0 -1"/>
    <limit effort="147" lower="-2.4056" upper="2.3184" velocity="8.1"/>
    <!-- 98 Nm, 1 rad/s-->
  </joint>
  <joint name="ankle_yaw_1" type="revolute">
    <parent link="ankle1_1"/>
    <child link="ankle2_1"/>
    <origin rpy="-1.57079632679 0.0 0.0" xyz="0.0 -0.139 -0.00085"/>
    <axis xyz="0 0 -1"/>
    <limit effort="35" lower="-2.5626" upper="2.5384" velocity="20.0"/>
    <!-- 23 Nm, 1 rad/s-->
  </joint>
  <joint name="j_wheel_1" type="continuous">
    <parent link="ankle2_1"/>
    <child link="wheel_1"/>
    <origin rpy="1.57079632679 0.0 0.0" xyz="0.0 -0.0 -0.09835"/>
    <axis xyz="0 0 -1"/>
    <limit effort="35" velocity="20.0"/>
    <!-- 23 Nm, 1 rad/s-->
  </joint>
  <link name="hip1_2">
    <inertial>
      <origin xyz="0.0003595855 -0.033338818 -0.059190309"/>
      <mass value="2.3349153"/>
      <!-- org: 2 -->
      <inertia ixx="0.0068405374" ixy="-1.8572633e-05" ixz="-4.8325972e-05" iyy="0.0026261815" iyz="-0.0001564273" izz="0.0066933354"/>
    </inertial>
    <visual>
      <origin rpy="0.0 0.0 0.0" xyz="0.0 0.0 0.0"/>
      <geometry>
        <mesh filename="package://centauro_urdf/meshes/v2/hip-yaw.stl" scale="0.001 0.001 0.001"/>
      </geometry>
      <material name="dark_grey"/>
    </visual>
    <collision>
      <origin rpy="0.0 0.0 0.0" xyz="0.0 0.0 0.0"/>
      <geometry>
        <mesh filename="package://centauro_urdf/meshes/v2/collision/hip-yaw.stl" scale="0.001 0.001 0.001"/>
      </geometry>
    </collision>
  </link>
  <link name="hip2_2">
    <inertial>
      <origin xyz="-4.6285952e-06 -0.2214019 -0.03316685"/>
      <mass value="3.4572118"/>
      <!-- org: 4.5 -->
      <inertia ixx="0.050469853" ixy="-7.7849387e-06" ixz="9.220581e-06" iyy="0.008181597" iyz="-0.0059796848" izz="0.048213809"/>
    </inertial>
    <visual>
      <origin rpy="0.0 0.0 0.0" xyz="0.0 0.0 0.0"/>
      <geometry>
        <mesh filename="package://centauro_urdf/meshes/v2/hip-pitch.stl" scale="0.001 0.001 0.001"/>
      </geometry>
    </visual>
    <collision>
      <origin rpy="0.0 0.0 0.0" xyz="0.0 0.0 0.0"/>
      <geometry>
        <mesh filename="package://centauro_urdf/meshes/v2/collision/hip-pitch.stl" scale="0.001 0.001 0.001"/>
      </geometry>
    </collision>
  </link>
  <link name="knee_2">
    <inertial>
      <origin xyz="0.00012063381 0.14620674 -0.029740711"/>
      <mass value="2.1199315"/>
      <!-- org: 3.5, foot un modeled-->
      <inertia ixx="0.018426403" ixy="2.8226636e-05" ixz="2.9204348e-05" iyy="0.0047685615" iyz="0.002640771" izz="0.017793722"/>
    </inertial>
    <visual>
      <origin rpy="0.0 0.0 0.0" xyz="0.0 0.0 0.0"/>
      <geometry>
        <mesh filename="package://centauro_urdf/meshes/v2/knee.stl" scale="0.001 0.001 0.001"/>
      </geometry>
      <material name="dark_grey"/>
    </visual>
    <collision>
      <origin rpy="0.0 0.0 0.0" xyz="0.0 0.0 0.0"/>
      <geometry>
        <mesh filename="package://centauro_urdf/meshes/v2/collision/knee.stl" scale="0.001 0.001 0.001"/>
      </geometry>
    </collision>
  </link>
  <link name="ankle1_2">
    <inertial>
      <origin xyz="0.00012360094 -0.06274712 0.0049068453"/>
      <mass value="1.4023368"/>
      <!-- org: 3.5, foot un modeled-->
      <inertia ixx="0.0049928829" ixy="5.7623557e-06" ixz="-1.9606394e-05" iyy="0.0017621464" iyz="-0.00045315091" izz="0.0048706328"/>
    </inertial>
    <visual>
      <origin rpy="0.0 0.0 0.0" xyz="0.0 0.0 0.0"/>
      <geometry>
        <mesh filename="package://centauro_urdf/meshes/v2/ankle-pitch.stl" scale="0.001 0.001 0.001"/>
      </geometry>
    </visual>
    <collision>
      <origin rpy="0.0 0.0 0.0" xyz="0.0 0.0 0.0"/>
      <geometry>
        <mesh filename="package://centauro_urdf/meshes/v2/collision/ankle-pitch.stl" scale="0.001 0.001 0.001"/>
      </geometry>
    </collision>
  </link>
  <link name="ankle2_2">
    <inertial>
      <origin xyz="0.0018496706 0.00051322371 -0.06730924"/>
      <mass value="1.7656714"/>
      <!-- org: 3.5, foot un modeled-->
      <inertia ixx="0.0073976286" ixy="-9.7557687e-07" ixz="-0.0002295255" iyy="0.0054434358" iyz="-3.6337754e-05" izz="0.0043055053"/>
    </inertial>
    <visual>
      <origin rpy="0.0 0.0 0.0" xyz="0.0 0.0 0.0"/>
      <geometry>
        <mesh filename="package://centauro_urdf/meshes/v2/ankle-yaw.stl" scale="0.001 0.001 0.001"/>
      </geometry>
      <material name="dark_grey"/>
    </visual>
    <collision>
      <origin rpy="0.0 0.0 0.0" xyz="0.0 0.0 0.0"/>
      <geometry>
        <mesh filename="package://centauro_urdf/meshes/v2/collision/ankle-yaw.stl" scale="0.001 0.001 0.001"/>
      </geometry>
    </collision>
  </link>
  <link name="wheel_2">
    <inertial>
      <origin xyz="0.0 0.0 0.0031155904"/>
      <mass value="1.11164"/>
      <inertia ixx="0.0028174054" ixy="0.0" ixz="0.0" iyy="0.0028175648" iyz="0.0" izz="0.0041817162"/>
    </inertial>
    <visual>
      <origin rpy="0.0 0.0 0.0" xyz="0.0 0.0 0.0"/>
      <geometry>
        <mesh filename="package://centauro_urdf/meshes/v2/wheel.stl" scale="0.001 0.001 0.001"/>
      </geometry>
      <material name="black"/>
    </visual>
    <collision>
      <origin rpy="0 0 0" xyz="0 0 0"/>
      <geometry>
        <cylinder length="0.11" radius="0.078"/>
      </geometry>
    </collision>
  </link>
  <!-- *****************************-->
  <link name="contact_2"/>
  <joint name="contact_joint_2" type="fixed">
    <parent link="ankle2_2"/>
    <child link="contact_2"/>
    <origin rpy="0 0 0" xyz="0 0 -0.176"/>
  </joint>
  <!-- ******************************** -->
  <joint name="hip_yaw_2" type="revolute">
    <parent link="pelvis"/>
    <child link="hip1_2"/>
    <origin rpy="0.0 0.0 0.0" xyz="0.25 -0.125 -0.0566"/>
    <axis xyz="0 0 -1"/>
    <limit effort="304" lower="-2.51" upper="2.03" velocity="8.8"/>
    <!-- 200 Nm, 1 rad/s-->
  </joint>
  <joint name="hip_pitch_2" type="revolute">
    <parent link="hip1_2"/>
    <child link="hip2_2"/>
    <origin rpy="1.57079632679 0.0 0.0" xyz="0.0 -0.1146 -0.0625"/>
    <axis xyz="0 0 1"/>
    <limit effort="304" lower="-2.0156" upper="2.0354" velocity="8.8"/>
    <!-- 200 Nm, 1 rad/s-->
  </joint>
  <joint name="knee_pitch_2" type="revolute">
    <parent link="hip2_2"/>
    <child link="knee_2"/>
    <origin rpy="3.14159265359 0.0 0.0" xyz="0.0 -0.3 -0.1182"/>
    <axis xyz="0 0 1"/>
    <limit effort="304" lower="-2.4006" upper="2.4034" velocity="8.8"/>
    <!-- 200 Nm, 1 rad/s-->
  </joint>
  <joint name="ankle_pitch_2" type="revolute">
    <parent link="knee_2"/>
    <child link="ankle1_2"/>
    <origin rpy="3.14159265359 0.0 0.0" xyz="0.0 0.2 -0.10015"/>
    <axis xyz="0 0 1"/>
    <limit effort="147" lower="-2.3266" upper="2.3914" velocity="8.1"/>
    <!-- 98 Nm, 1 rad/s-->
  </joint>
  <joint name="ankle_yaw_2" type="revolute">
    <parent link="ankle1_2"/>
    <child link="ankle2_2"/>
    <origin rpy="-1.57079632679 0.0 0.0" xyz="0.0 -0.139 0.00085"/>
    <axis xyz="0 0 -1"/>
    <limit effort="35" lower="-2.5546" upper="2.5484" velocity="20.0"/>
    <!-- 23 Nm, 1 rad/s-->
  </joint>
  <joint name="j_wheel_2" type="continuous">
    <parent link="ankle2_2"/>
    <child link="wheel_2"/>
    <origin rpy="1.57079632679 0.0 0.0" xyz="0.0 0.0 -0.09835"/>
    <axis xyz="0 0 1"/>
    <limit effort="35" velocity="20.0"/>
    <!-- 23 Nm, 1 rad/s-->
  </joint>
  <link name="hip1_3">
    <inertial>
      <origin xyz="0.0003595855 0.033338818 -0.059190309"/>
      <mass value="2.3349153"/>
      <!-- org: 2 -->
      <inertia ixx="0.0068405374" ixy="1.8572633e-05" ixz="-4.8325972e-05" iyy="0.0026261815" iyz="0.0001564273" izz="0.0066933354"/>
    </inertial>
    <visual>
      <origin rpy="0.0 0.0 0.0" xyz="0.0 0.0 0.0"/>
      <geometry>
        <mesh filename="package://centauro_urdf/meshes/v2/hip-yaw.stl" scale="0.001 -0.001 0.001"/>
      </geometry>
      <material name="dark_grey"/>
    </visual>
    <collision>
      <origin rpy="0.0 0.0 0.0" xyz="0.0 0.0 0.0"/>
      <geometry>
        <mesh filename="package://centauro_urdf/meshes/v2/collision/hip-yaw.stl" scale="0.001 -0.001 0.001"/>
      </geometry>
    </collision>
  </link>
  <link name="hip2_3">
    <inertial>
      <origin xyz="-4.6285952e-06 -0.2214019 0.03316685"/>
      <mass value="3.4572118"/>
      <!-- org: 4.5 -->
      <inertia ixx="0.050469853" ixy="-7.7849387e-06" ixz="-9.220581e-06" iyy="0.008181597" iyz="0.0059796848" izz="0.048213809"/>
    </inertial>
    <visual>
      <origin rpy="0.0 0.0 0.0" xyz="0.0 0.0 0.0"/>
      <geometry>
        <mesh filename="package://centauro_urdf/meshes/v2/hip-pitch.stl" scale="0.001 0.001 -0.001"/>
      </geometry>
    </visual>
    <collision>
      <origin rpy="0.0 0.0 0.0" xyz="0.0 0.0 0.0"/>
      <geometry>
        <mesh filename="package://centauro_urdf/meshes/v2/collision/hip-pitch.stl" scale="0.001 0.001 -0.001"/>
      </geometry>
    </collision>
  </link>
  <link name="knee_3">
    <inertial>
      <origin xyz="0.00012063381 0.14620674 0.029740711"/>
      <mass value="2.1199315"/>
      <!-- org: 3.5, foot un modeled-->
      <inertia ixx="0.018426403" ixy="2.8226636e-05" ixz="-2.9204348e-05" iyy="0.0047685615" iyz="-0.002640771" izz="0.017793722"/>
    </inertial>
    <visual>
      <origin rpy="0.0 0.0 0.0" xyz="0.0 0.0 0.0"/>
      <geometry>
        <mesh filename="package://centauro_urdf/meshes/v2/knee.stl" scale="0.001 0.001 -0.001"/>
      </geometry>
      <material name="dark_grey"/>
    </visual>
    <collision>
      <origin rpy="0.0 0.0 0.0" xyz="0.0 0.0 0.0"/>
      <geometry>
        <mesh filename="package://centauro_urdf/meshes/v2/collision/knee.stl" scale="0.001 0.001 -0.001"/>
      </geometry>
    </collision>
  </link>
  <link name="ankle1_3">
    <inertial>
      <origin xyz="0.00012360094 -0.06274712 -0.0049068453"/>
      <mass value="1.4023368"/>
      <!-- org: 3.5, foot un modeled-->
      <inertia ixx="0.0049928829" ixy="5.7623557e-06" ixz="1.9606394e-05" iyy="0.0017621464" iyz="0.00045315091" izz="0.0048706328"/>
    </inertial>
    <visual>
      <origin rpy="0.0 0.0 0.0" xyz="0.0 0.0 0.0"/>
      <geometry>
        <mesh filename="package://centauro_urdf/meshes/v2/ankle-pitch.stl" scale="0.001 0.001 -0.001"/>
      </geometry>
    </visual>
    <collision>
      <origin rpy="0.0 0.0 0.0" xyz="0.0 0.0 0.0"/>
      <geometry>
        <mesh filename="package://centauro_urdf/meshes/v2/collision/ankle-pitch.stl" scale="0.001 0.001 -0.001"/>
      </geometry>
    </collision>
  </link>
  <link name="ankle2_3">
    <inertial>
      <origin xyz="0.0018496706 -0.00051322371 -0.06730924"/>
      <mass value="1.7656714"/>
      <!-- org: 3.5, foot un modeled-->
      <inertia ixx="0.0073976286" ixy="9.7557687e-07" ixz="-0.0002295255" iyy="0.0054434358" iyz="3.6337754e-05" izz="0.0043055053"/>
    </inertial>
    <visual>
      <origin rpy="0.0 0.0 0.0" xyz="0.0 0.0 0.0"/>
      <geometry>
        <mesh filename="package://centauro_urdf/meshes/v2/ankle-yaw.stl" scale="0.001 -0.001 0.001"/>
      </geometry>
      <material name="dark_grey"/>
    </visual>
    <collision>
      <origin rpy="0.0 0.0 0.0" xyz="0.0 0.0 0.0"/>
      <geometry>
        <mesh filename="package://centauro_urdf/meshes/v2/collision/ankle-yaw.stl" scale="0.001 -0.001 0.001"/>
      </geometry>
    </collision>
  </link>
  <link name="wheel_3">
    <inertial>
      <origin xyz="0.0 0.0 -0.0031155904"/>
      <mass value="1.11164"/>
      <inertia ixx="0.0028174054" ixy="0.0" ixz="-0.0" iyy="0.0028175648" iyz="-0.0" izz="0.0041817162"/>
    </inertial>
    <visual>
      <origin rpy="0.0 0.0 0.0" xyz="0.0 0.0 0.0"/>
      <geometry>
        <mesh filename="package://centauro_urdf/meshes/v2/wheel.stl" scale="0.001 0.001 -0.001"/>
      </geometry>
      <material name="black"/>
    </visual>
    <collision>
      <origin rpy="0 0 0" xyz="0 0 0"/>
      <geometry>
        <cylinder length="0.11" radius="0.078"/>
      </geometry>
    </collision>
  </link>
  <!-- *****************************-->
  <link name="contact_3"/>
  <joint name="contact_joint_3" type="fixed">
    <parent link="ankle2_3"/>
    <child link="contact_3"/>
    <origin rpy="0 0 0" xyz="0 0 -0.176"/>
  </joint>
  <!-- ******************************** -->
  <joint name="hip_yaw_3" type="revolute">
    <parent link="pelvis"/>
    <child link="hip1_3"/>
    <origin rpy="0.0 0.0 0.0" xyz="-0.25 0.125 -0.0566"/>
    <axis xyz="0 0 -1"/>
    <limit effort="304" lower="-2.51" upper="2.03" velocity="8.8"/>
    <!-- 200 Nm, 1 rad/s-->
  </joint>
  <joint name="hip_pitch_3" type="revolute">
    <parent link="hip1_3"/>
    <child link="hip2_3"/>
    <origin rpy="1.57079632679 0.0 0.0" xyz="0.0 0.1146 -0.0625"/>
    <axis xyz="0 0 -1"/>
    <limit effort="304" lower="-2.0126" upper="2.0384" velocity="8.8"/>
    <!-- 200 Nm, 1 rad/s-->
  </joint>
  <joint name="knee_pitch_3" type="revolute">
    <parent link="hip2_3"/>
    <child link="knee_3"/>
    <origin rpy="3.14159265359 0.0 0.0" xyz="0.0 -0.3 0.1182"/>
    <axis xyz="0 0 -1"/>
    <limit effort="304" lower="-2.4056" upper="2.4064" velocity="8.8"/>
    <!-- 200 Nm, 1 rad/s-->
  </joint>
  <joint name="ankle_pitch_3" type="revolute">
    <parent link="knee_3"/>
    <child link="ankle1_3"/>
    <origin rpy="3.14159265359 0.0 0.0" xyz="0.0 0.2 0.10015"/>
    <axis xyz="0 0 -1"/>
    <limit effort="147" lower="-2.4696" upper="2.4464" velocity="8.1"/>
    <!-- 98 Nm, 1 rad/s-->
  </joint>
  <joint name="ankle_yaw_3" type="revolute">
    <parent link="ankle1_3"/>
    <child link="ankle2_3"/>
    <origin rpy="-1.57079632679 0.0 0.0" xyz="0.0 -0.139 -0.00085"/>
    <axis xyz="0 0 -1"/>
    <limit effort="35" lower="-2.5606" upper="2.5454" velocity="20.0"/>
    <!-- 23 Nm, 1 rad/s-->
  </joint>
  <joint name="j_wheel_3" type="continuous">
    <parent link="ankle2_3"/>
    <child link="wheel_3"/>
    <origin rpy="1.57079632679 0.0 0.0" xyz="0.0 -0.0 -0.09835"/>
    <axis xyz="0 0 -1"/>
    <limit effort="35" velocity="20.0"/>
    <!-- 23 Nm, 1 rad/s-->
  </joint>
  <link name="hip1_4">
    <inertial>
      <origin xyz="0.0003595855 -0.033338818 -0.059190309"/>
      <mass value="2.3349153"/>
      <!-- org: 2 -->
      <inertia ixx="0.0068405374" ixy="-1.8572633e-05" ixz="-4.8325972e-05" iyy="0.0026261815" iyz="-0.0001564273" izz="0.0066933354"/>
    </inertial>
    <visual>
      <origin rpy="0.0 0.0 0.0" xyz="0.0 0.0 0.0"/>
      <geometry>
        <mesh filename="package://centauro_urdf/meshes/v2/hip-yaw.stl" scale="0.001 0.001 0.001"/>
      </geometry>
      <material name="dark_grey"/>
    </visual>
    <collision>
      <origin rpy="0.0 0.0 0.0" xyz="0.0 0.0 0.0"/>
      <geometry>
        <mesh filename="package://centauro_urdf/meshes/v2/collision/hip-yaw.stl" scale="0.001 0.001 0.001"/>
      </geometry>
    </collision>
  </link>
  <link name="hip2_4">
    <inertial>
      <origin xyz="-4.6285952e-06 -0.2214019 -0.03316685"/>
      <mass value="3.4572118"/>
      <!-- org: 4.5 -->
      <inertia ixx="0.050469853" ixy="-7.7849387e-06" ixz="9.220581e-06" iyy="0.008181597" iyz="-0.0059796848" izz="0.048213809"/>
    </inertial>
    <visual>
      <origin rpy="0.0 0.0 0.0" xyz="0.0 0.0 0.0"/>
      <geometry>
        <mesh filename="package://centauro_urdf/meshes/v2/hip-pitch.stl" scale="0.001 0.001 0.001"/>
      </geometry>
    </visual>
    <collision>
      <origin rpy="0.0 0.0 0.0" xyz="0.0 0.0 0.0"/>
      <geometry>
        <mesh filename="package://centauro_urdf/meshes/v2/collision/hip-pitch.stl" scale="0.001 0.001 0.001"/>
      </geometry>
    </collision>
  </link>
  <link name="knee_4">
    <inertial>
      <origin xyz="0.00012063381 0.14620674 -0.029740711"/>
      <mass value="2.1199315"/>
      <!-- org: 3.5, foot un modeled-->
      <inertia ixx="0.018426403" ixy="2.8226636e-05" ixz="2.9204348e-05" iyy="0.0047685615" iyz="0.002640771" izz="0.017793722"/>
    </inertial>
    <visual>
      <origin rpy="0.0 0.0 0.0" xyz="0.0 0.0 0.0"/>
      <geometry>
        <mesh filename="package://centauro_urdf/meshes/v2/knee.stl" scale="0.001 0.001 0.001"/>
      </geometry>
      <material name="dark_grey"/>
    </visual>
    <collision>
      <origin rpy="0.0 0.0 0.0" xyz="0.0 0.0 0.0"/>
      <geometry>
        <mesh filename="package://centauro_urdf/meshes/v2/collision/knee.stl" scale="0.001 0.001 0.001"/>
      </geometry>
    </collision>
  </link>
  <link name="ankle1_4">
    <inertial>
      <origin xyz="0.00012360094 -0.06274712 0.0049068453"/>
      <mass value="1.4023368"/>
      <!-- org: 3.5, foot un modeled-->
      <inertia ixx="0.0049928829" ixy="5.7623557e-06" ixz="-1.9606394e-05" iyy="0.0017621464" iyz="-0.00045315091" izz="0.0048706328"/>
    </inertial>
    <visual>
      <origin rpy="0.0 0.0 0.0" xyz="0.0 0.0 0.0"/>
      <geometry>
        <mesh filename="package://centauro_urdf/meshes/v2/ankle-pitch.stl" scale="0.001 0.001 0.001"/>
      </geometry>
    </visual>
    <collision>
      <origin rpy="0.0 0.0 0.0" xyz="0.0 0.0 0.0"/>
      <geometry>
        <mesh filename="package://centauro_urdf/meshes/v2/collision/ankle-pitch.stl" scale="0.001 0.001 0.001"/>
      </geometry>
    </collision>
  </link>
  <link name="ankle2_4">
    <inertial>
      <origin xyz="0.0018496706 0.00051322371 -0.06730924"/>
      <mass value="1.7656714"/>
      <!-- org: 3.5, foot un modeled-->
      <inertia ixx="0.0073976286" ixy="-9.7557687e-07" ixz="-0.0002295255" iyy="0.0054434358" iyz="-3.6337754e-05" izz="0.0043055053"/>
    </inertial>
    <visual>
      <origin rpy="0.0 0.0 0.0" xyz="0.0 0.0 0.0"/>
      <geometry>
        <mesh filename="package://centauro_urdf/meshes/v2/ankle-yaw.stl" scale="0.001 0.001 0.001"/>
      </geometry>
      <material name="dark_grey"/>
    </visual>
    <collision>
      <origin rpy="0.0 0.0 0.0" xyz="0.0 0.0 0.0"/>
      <geometry>
        <mesh filename="package://centauro_urdf/meshes/v2/collision/ankle-yaw.stl" scale="0.001 0.001 0.001"/>
      </geometry>
    </collision>
  </link>
  <link name="wheel_4">
    <inertial>
      <origin xyz="0.0 0.0 0.0031155904"/>
      <mass value="1.11164"/>
      <inertia ixx="0.0028174054" ixy="0.0" ixz="0.0" iyy="0.0028175648" iyz="0.0" izz="0.0041817162"/>
    </inertial>
    <visual>
      <origin rpy="0.0 0.0 0.0" xyz="0.0 0.0 0.0"/>
      <geometry>
        <mesh filename="package://centauro_urdf/meshes/v2/wheel.stl" scale="0.001 0.001 0.001"/>
      </geometry>
      <material name="black"/>
    </visual>
    <collision>
      <origin rpy="0 0 0" xyz="0 0 0"/>
      <geometry>
        <cylinder length="0.11" radius="0.078"/>
      </geometry>
    </collision>
  </link>
  <!-- *****************************-->
  <link name="contact_4"/>
  <joint name="contact_joint_4" type="fixed">
    <parent link="ankle2_4"/>
    <child link="contact_4"/>
    <origin rpy="0 0 0" xyz="0 0 -0.176"/>
  </joint>
  <!-- ******************************** -->
  <joint name="hip_yaw_4" type="revolute">
    <parent link="pelvis"/>
    <child link="hip1_4"/>
    <origin rpy="0.0 0.0 0.0" xyz="-0.25 -0.125 -0.0566"/>
    <axis xyz="0 0 -1"/>
    <limit effort="304" lower="-2.03" upper="2.51" velocity="8.8"/>
    <!-- 200 Nm, 1 rad/s-->
  </joint>
  <joint name="hip_pitch_4" type="revolute">
    <parent link="hip1_4"/>
    <child link="hip2_4"/>
    <origin rpy="1.57079632679 0.0 0.0" xyz="0.0 -0.1146 -0.0625"/>
    <axis xyz="0 0 1"/>
    <limit effort="304" lower="-2.0326" upper="2.0524" velocity="8.8"/>
    <!-- 200 Nm, 1 rad/s-->
  </joint>
  <joint name="knee_pitch_4" type="revolute">
    <parent link="hip2_4"/>
    <child link="knee_4"/>
    <origin rpy="3.14159265359 0.0 0.0" xyz="0.0 -0.3 -0.1182"/>
    <axis xyz="0 0 1"/>
    <limit effort="304" lower="-2.4176" upper="2.3884" velocity="8.8"/>
    <!-- 200 Nm, 1 rad/s-->
  </joint>
  <joint name="ankle_pitch_4" type="revolute">
    <parent link="knee_4"/>
    <child link="ankle1_4"/>
    <origin rpy="3.14159265359 0.0 0.0" xyz="0.0 0.2 -0.10015"/>
    <axis xyz="0 0 1"/>
    <limit effort="147" lower="-2.3426" upper="2.3934" velocity="8.1"/>
    <!-- 98 Nm, 1 rad/s-->
  </joint>
  <joint name="ankle_yaw_4" type="revolute">
    <parent link="ankle1_4"/>
    <child link="ankle2_4"/>
    <origin rpy="-1.57079632679 0.0 0.0" xyz="0.0 -0.139 0.00085"/>
    <axis xyz="0 0 -1"/>
    <limit effort="35" lower="-2.6046" upper="2.5514" velocity="20.0"/>
    <!-- 23 Nm, 1 rad/s-->
  </joint>
  <joint name="j_wheel_4" type="continuous">
    <parent link="ankle2_4"/>
    <child link="wheel_4"/>
    <origin rpy="1.57079632679 0.0 0.0" xyz="0.0 0.0 -0.09835"/>
    <axis xyz="0 0 1"/>
    <limit effort="35" velocity="20.0"/>
    <!-- 23 Nm, 1 rad/s-->
  </joint>
  <!-- ************ Control frames ************ -->
  <!--xacro:include filename="$(find pholus_urdf)/urdf/control_frames.urdf.xacro"/-->
</robot>
